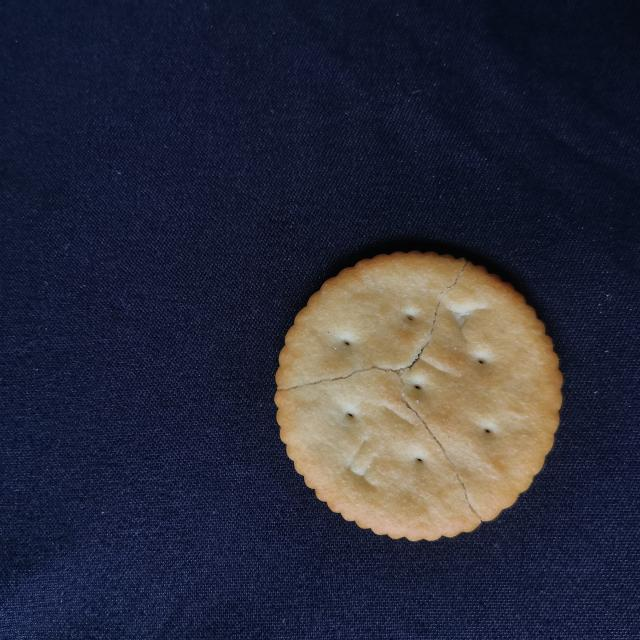Fracture: (275, 253, 499, 529)
